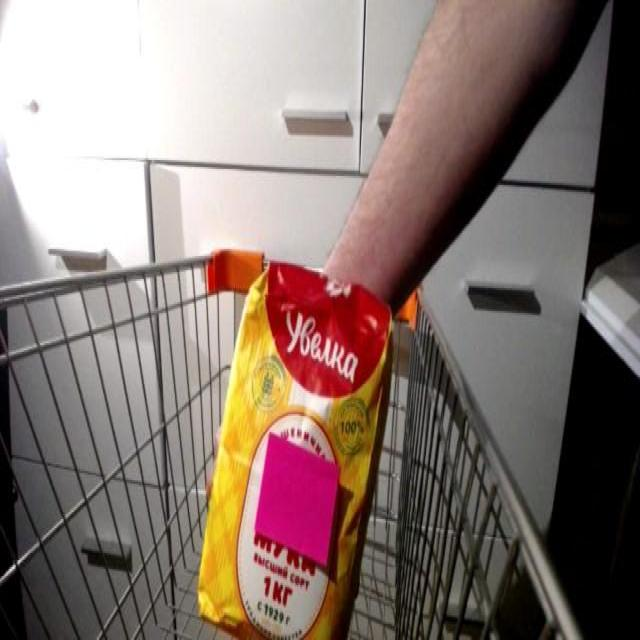Almond Milk: (195, 254, 397, 640)
